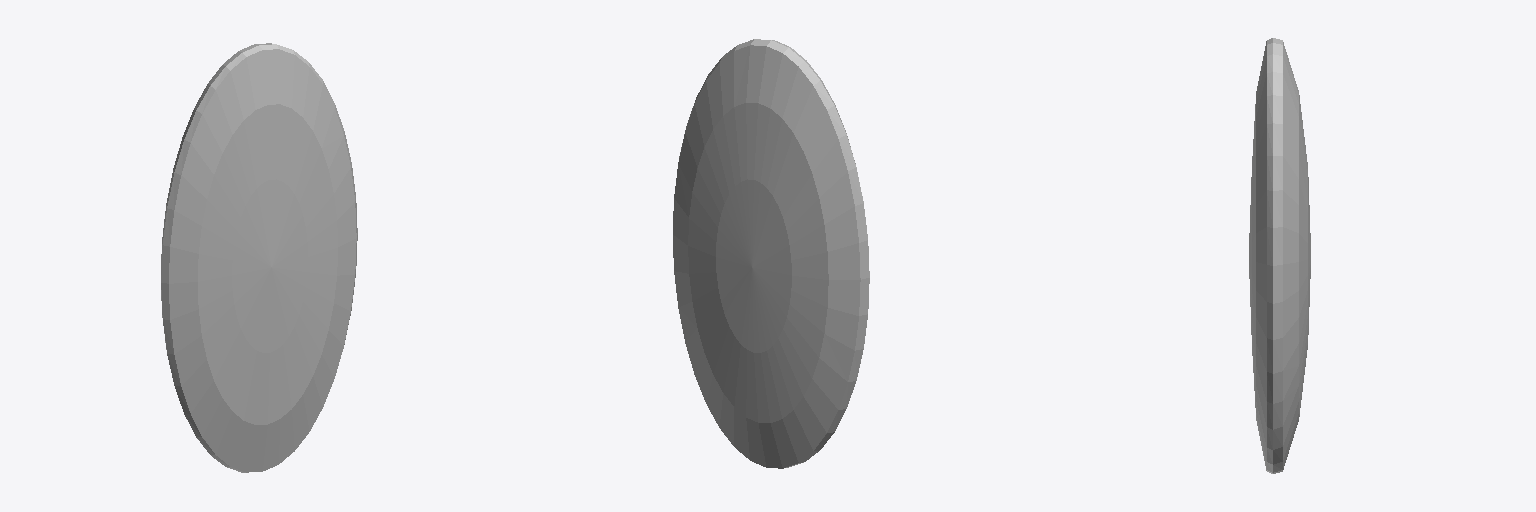
The model's file is FED_Capital_Battle_Sovereign_Shield.obj.
3 renders of one model, left to right at view 1: azimuth 30°, elevation 25°; view 2: azimuth 150°, elevation 25°; view 3: azimuth 270°, elevation 25°, orthographic.
Visible parts, largest first — view 1: Object_1; view 2: Object_1; view 3: Object_1.
Boxes of the visible parts, x1=… form: Object_1: x1=161, y1=43, x2=357, y2=472; Object_1: x1=673, y1=39, x2=869, y2=468; Object_1: x1=1249, y1=38, x2=1310, y2=473.
Size of the model in its own units: 189 by 393 by 52.25.